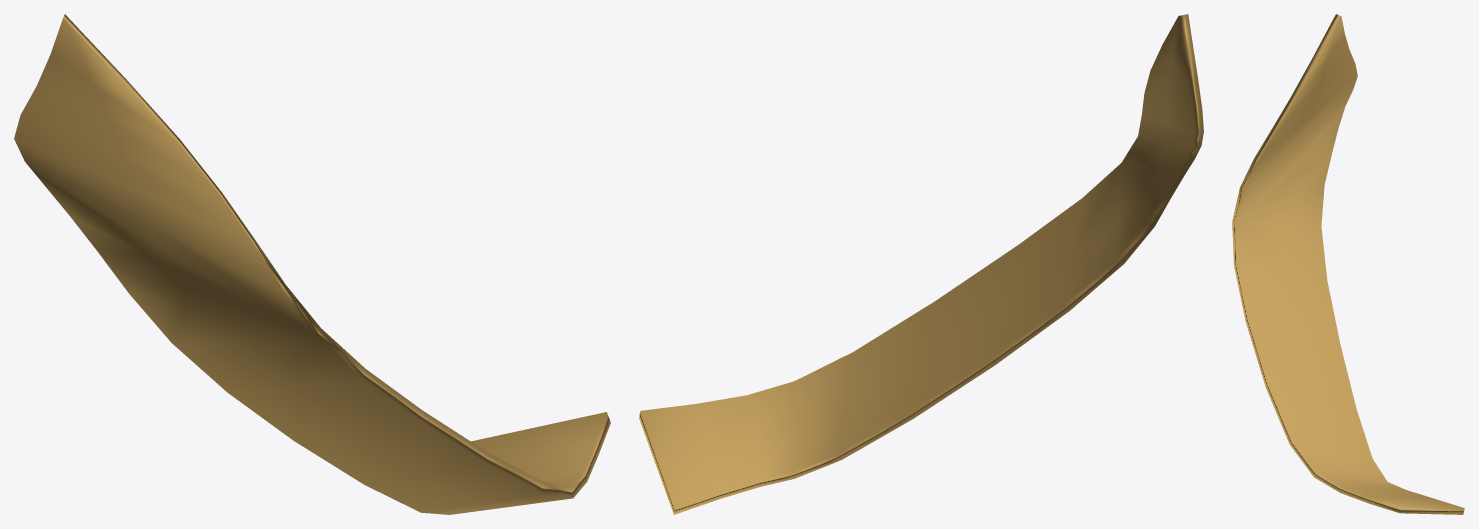
3 views of the same model, side by side, from view 1: azimuth 30°, elevation 25°; view 2: azimuth 150°, elevation 25°; view 3: azimuth 270°, elevation 25° (orthographic). The views are drawn at different scales.
Parts seen in each view (by area): view 1: 左侧盂肱上韧带; view 2: 左侧盂肱上韧带; view 3: 左侧盂肱上韧带.
Boxes of the visible parts, x1=… form: 左侧盂肱上韧带: x1=14, y1=14, x2=610, y2=514; 左侧盂肱上韧带: x1=639, y1=14, x2=1203, y2=514; 左侧盂肱上韧带: x1=1232, y1=14, x2=1464, y2=514.
Bounding box in the file's own units: 0.0432 × 0.0416 × 0.0242.
